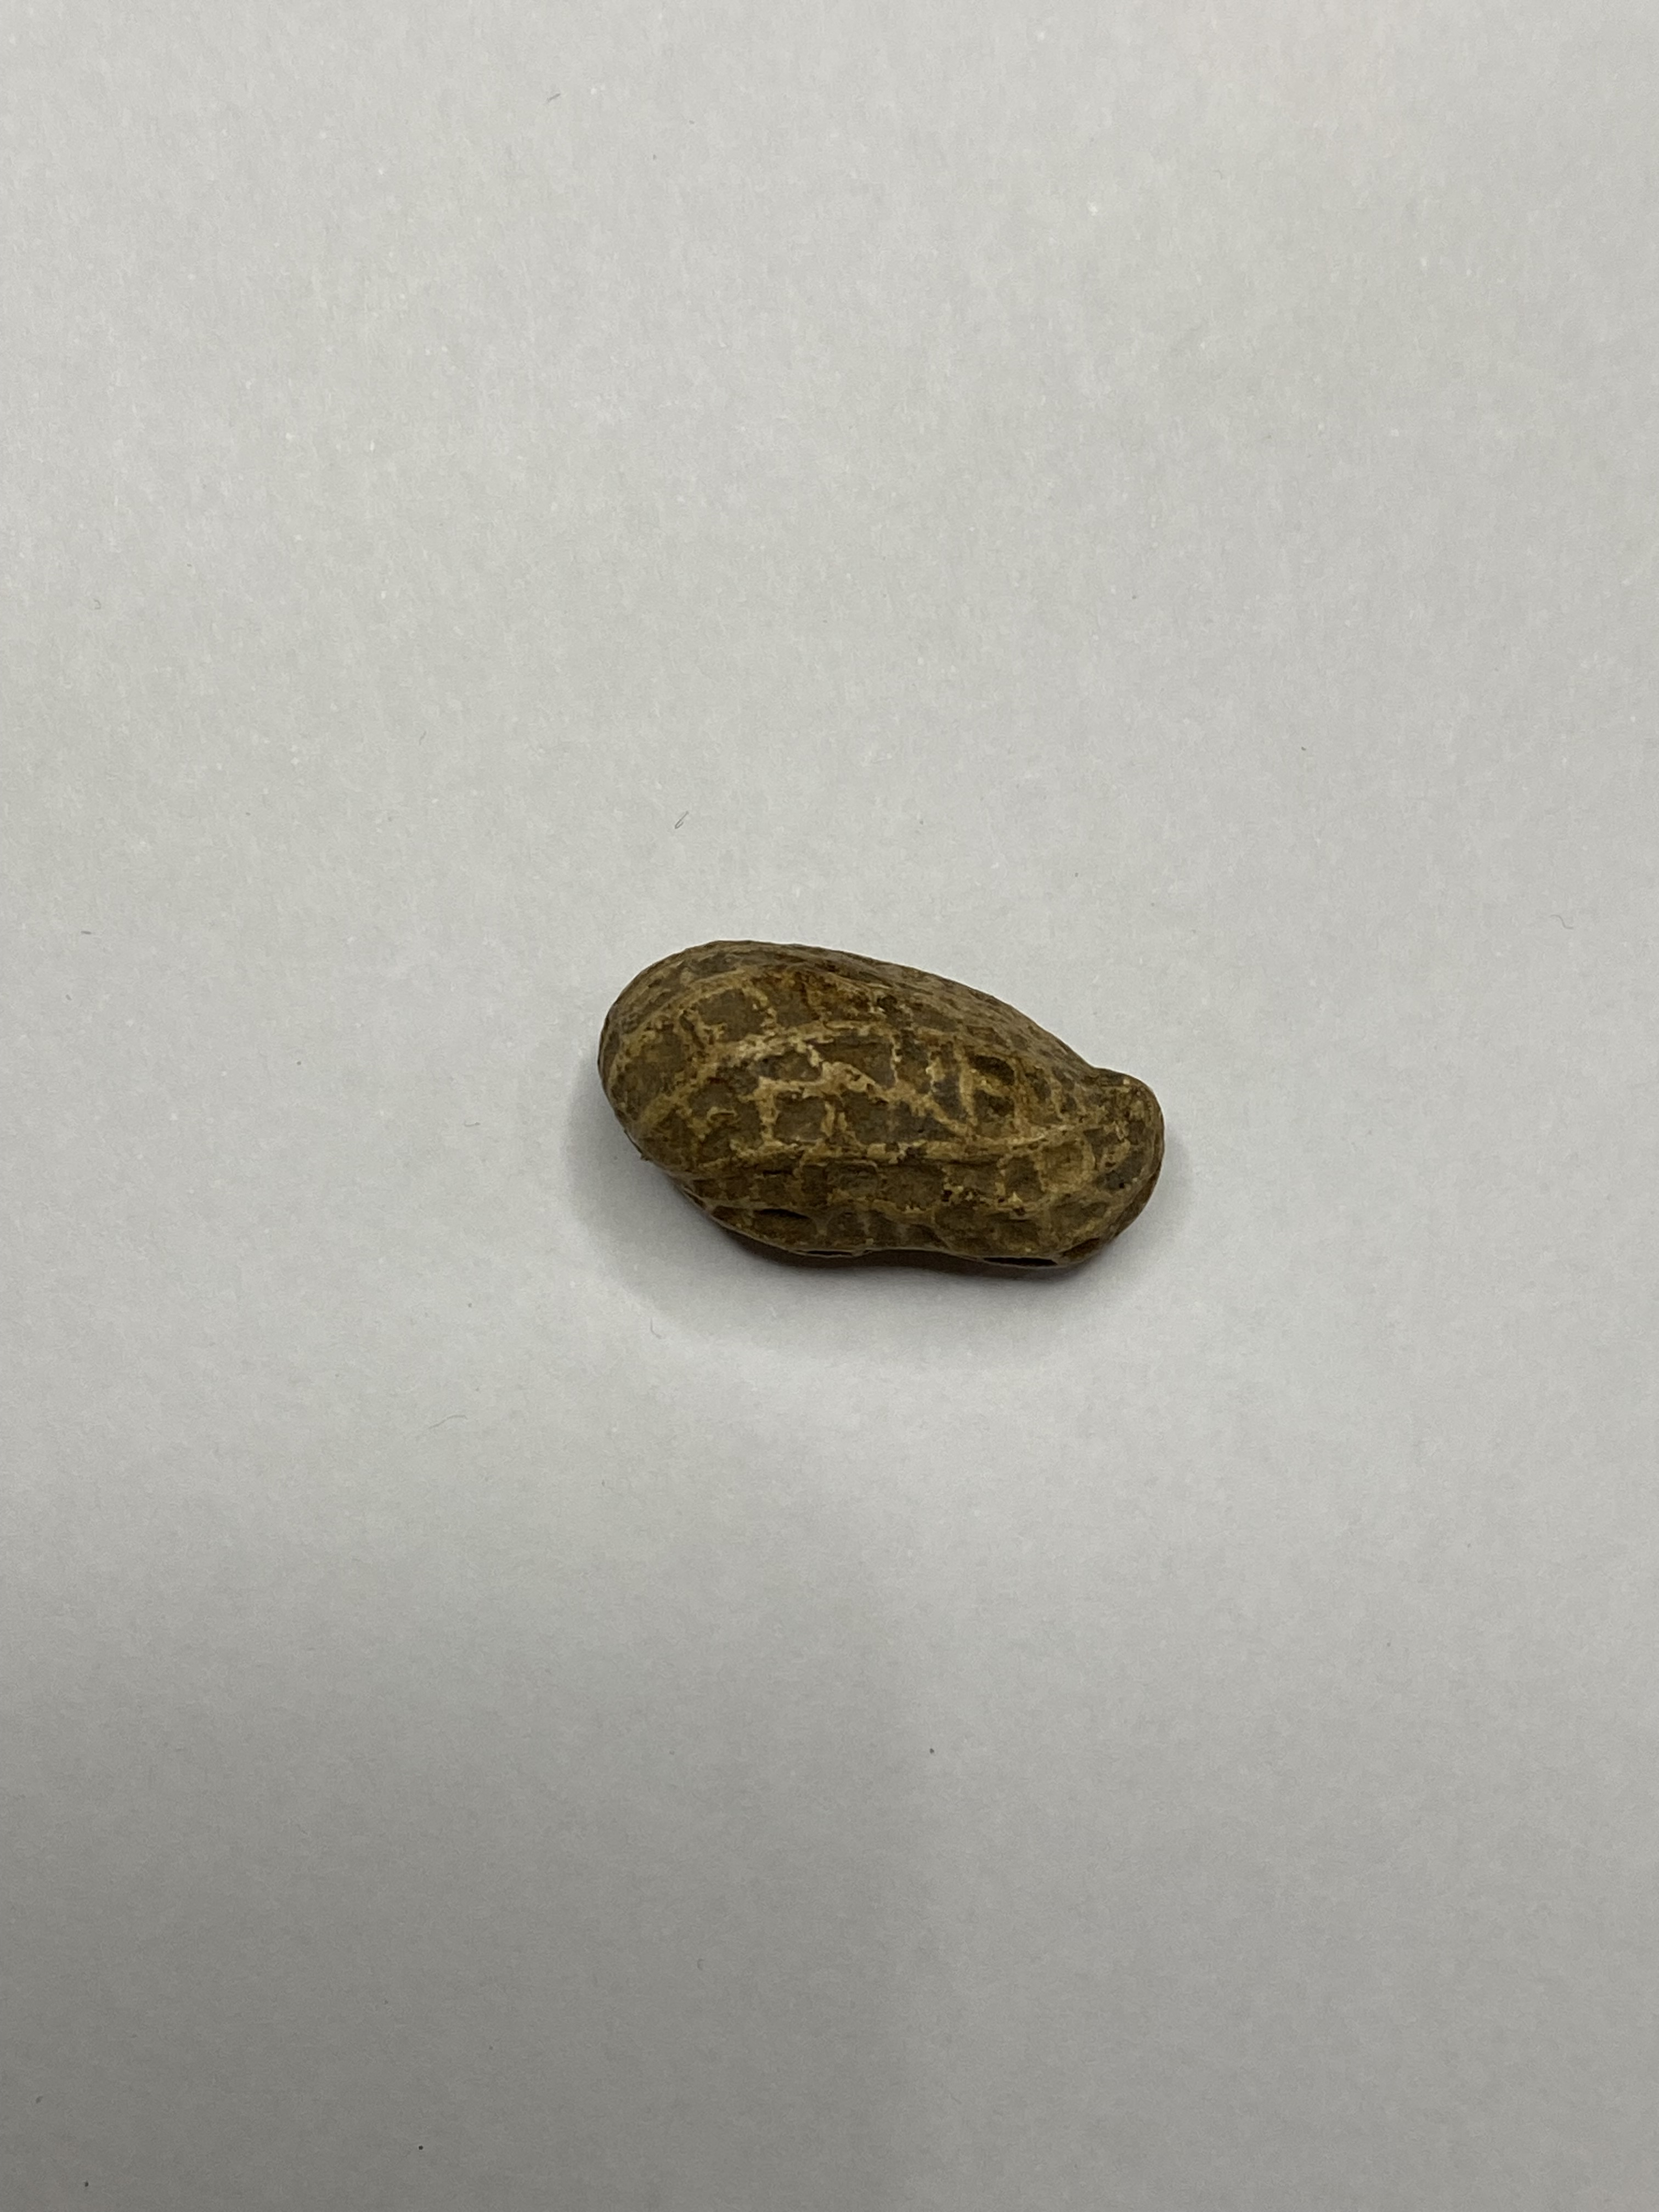kacang1: (498, 852, 1288, 1308)
